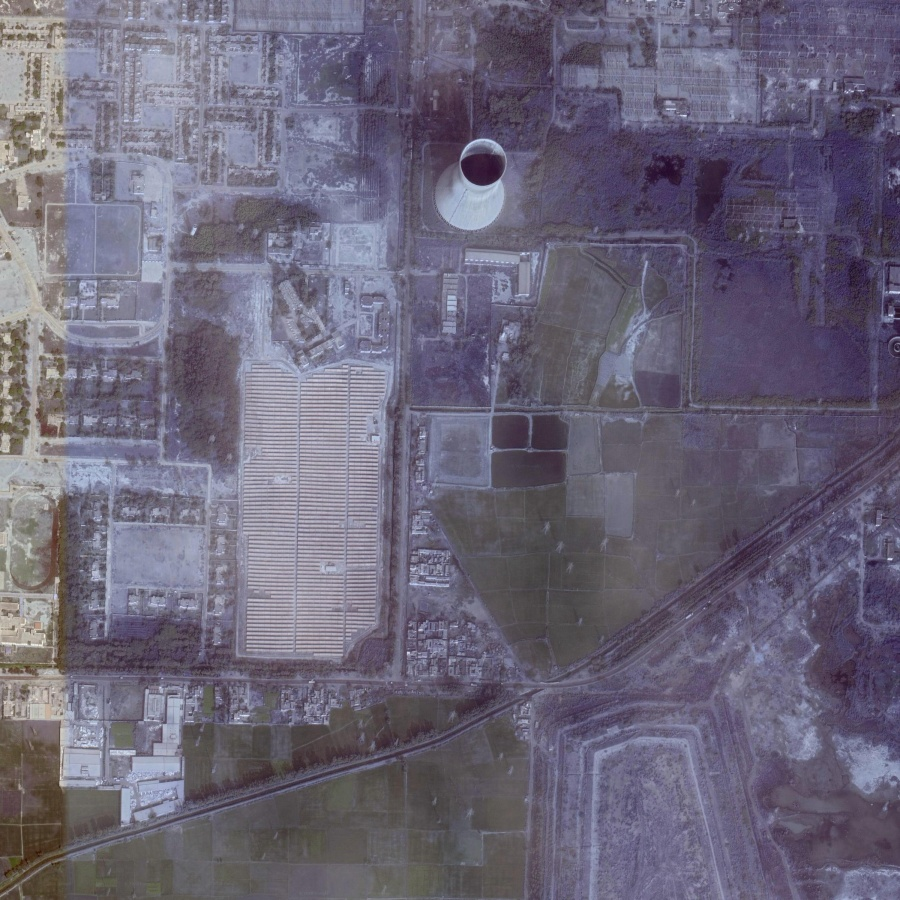PowerPlant: (415, 126, 659, 400)
